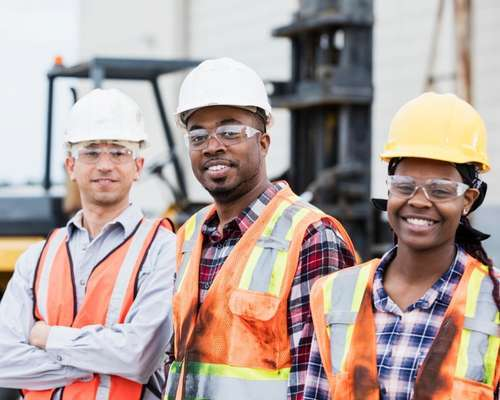cap: (373, 80, 493, 180), (49, 83, 159, 151), (174, 65, 285, 122)
jacket: (165, 190, 324, 400), (309, 240, 500, 400), (22, 221, 169, 400)
